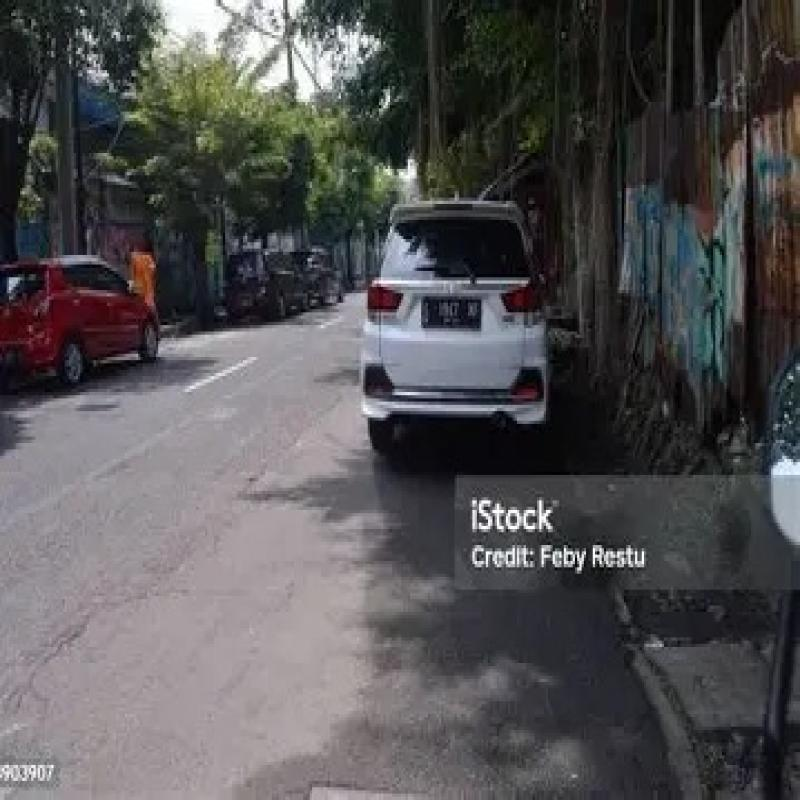license plate on a car: (422, 287, 487, 343)
